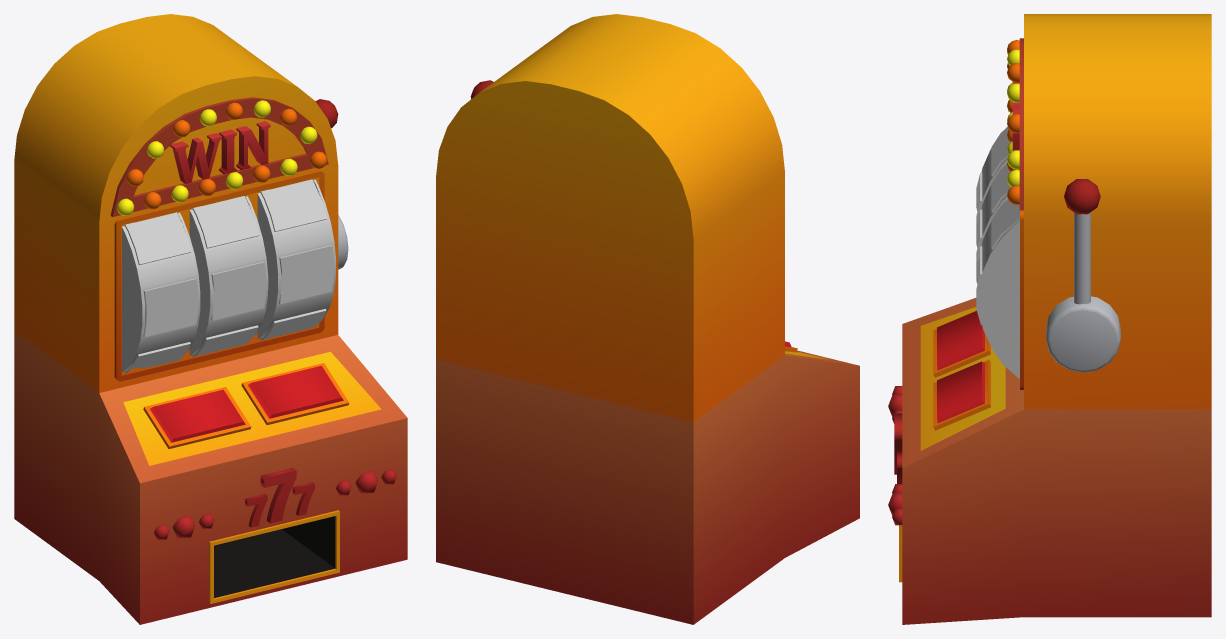
The model's file is SlotMachine.fbx.
3 views of the same model, side by side, from view 1: azimuth 30°, elevation 25°; view 2: azimuth 150°, elevation 25°; view 3: azimuth 270°, elevation 25° (orthographic). The views are drawn at different scales.
Parts seen in each view (by area): view 1: SlotMachine.002, SlotMachineCylinder.003, SlotMachineCylinder.001, SlotMachineCylinder.004, SlotMachineWinText, SlotMachine777Text, SlotMachineLight, SlotMachineLight.001, SlotMachineLight.004; view 2: SlotMachine.002; view 3: SlotMachine.002, SlotMachineCylinder.004, SlotMachine.004, SlotMachine.005, SlotMachineCylinder.003, SlotMachineCylinder.001, SlotMachine.006, SlotMachineLight.001, SlotMachineLight, SlotMachineLight.004, SlotMachine777Text.
Part boxes in pixels (x1=…): SlotMachine.002: x1=14, y1=14, x2=407, y2=624; SlotMachineCylinder.003: x1=122, y1=212, x2=200, y2=373; SlotMachineCylinder.001: x1=189, y1=195, x2=268, y2=356; SlotMachineCylinder.004: x1=257, y1=179, x2=335, y2=340; SlotMachineWinText: x1=170, y1=121, x2=270, y2=183; SlotMachine777Text: x1=245, y1=468, x2=314, y2=527; SlotMachineLight: x1=117, y1=100, x2=317, y2=215; SlotMachineLight.001: x1=126, y1=102, x2=327, y2=209; SlotMachineLight.004: x1=154, y1=469, x2=396, y2=539; SlotMachine.002: x1=436, y1=14, x2=859, y2=624; SlotMachine.002: x1=899, y1=14, x2=1211, y2=624; SlotMachineCylinder.004: x1=976, y1=199, x2=1019, y2=378; SlotMachine.004: x1=1046, y1=296, x2=1120, y2=372; SlotMachine.005: x1=1074, y1=212, x2=1090, y2=304; SlotMachineCylinder.003: x1=976, y1=126, x2=1010, y2=223; SlotMachineCylinder.001: x1=976, y1=164, x2=1011, y2=260; SlotMachine.006: x1=1064, y1=179, x2=1100, y2=214; SlotMachineLight.001: x1=1007, y1=40, x2=1019, y2=204; SlotMachineLight: x1=1007, y1=49, x2=1019, y2=187; SlotMachineLight.004: x1=888, y1=386, x2=902, y2=525; SlotMachine777Text: x1=894, y1=413, x2=902, y2=483.
Bounding box in the file's own units: 633 × 1024 × 579.
